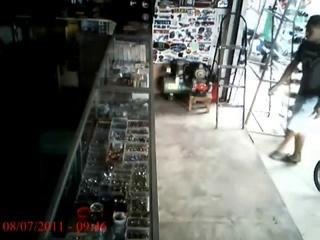Normal: (268, 12, 320, 164)
